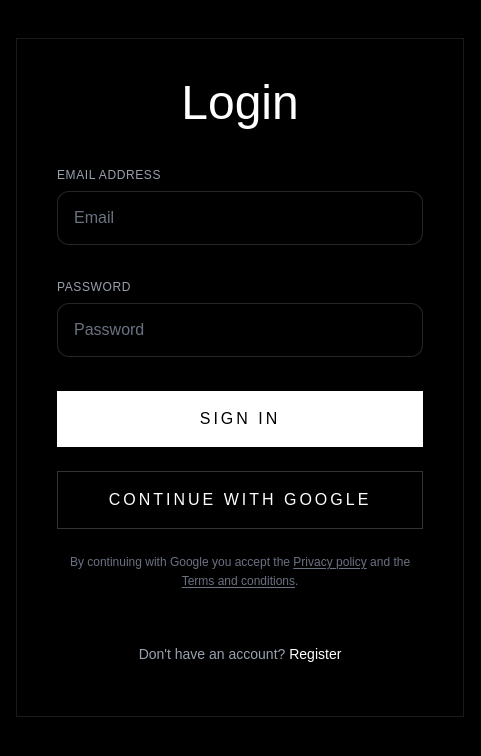
forms › after a failed login the focus goes to the first field to fix, and the error is announced
Type "ana@example.test" into the field labelled "Email address" at (240, 218), box [57, 190, 423, 244]
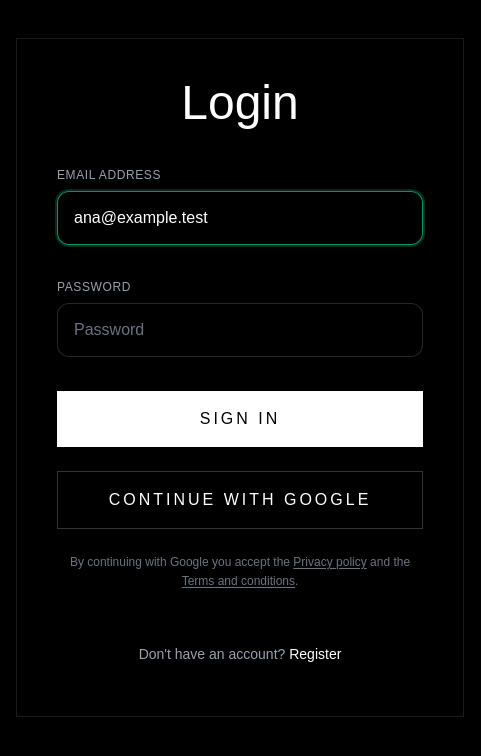
Type "secret" into the password field labelled "Password" at (240, 330), box [57, 302, 423, 356]
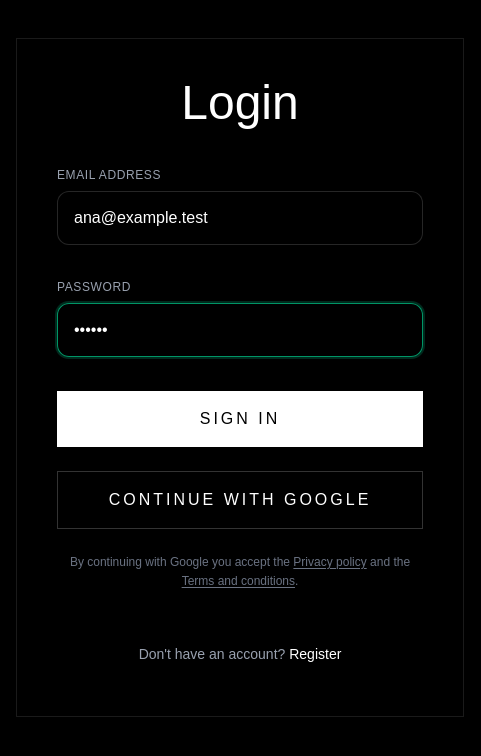
Click the button "Sign In" at (240, 418), box [57, 390, 423, 446]
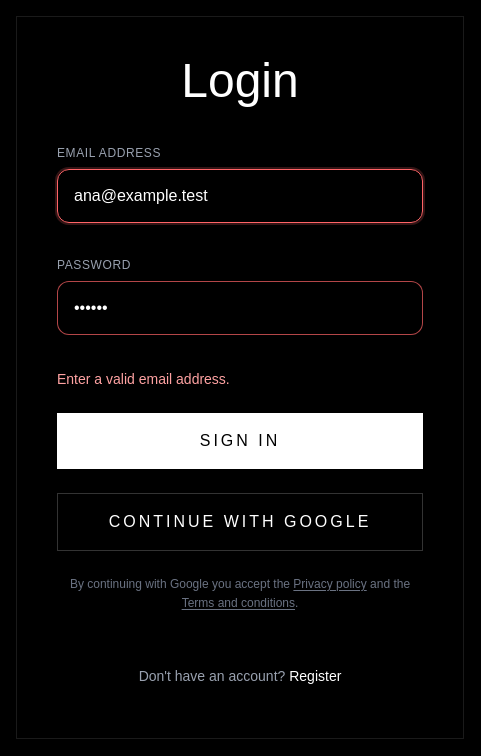
Check: the message "Enter a valid email address." is shown, box [57, 370, 230, 386]
